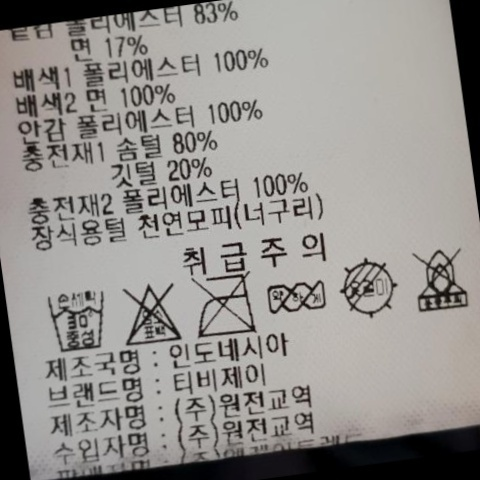DN_iron: (188, 271, 260, 343)
hand_wash: (46, 283, 117, 357)
line_dry_in_shade: (339, 254, 404, 321)
non_chlorine_bleach: (117, 270, 189, 349)
wring: (265, 272, 334, 319)
